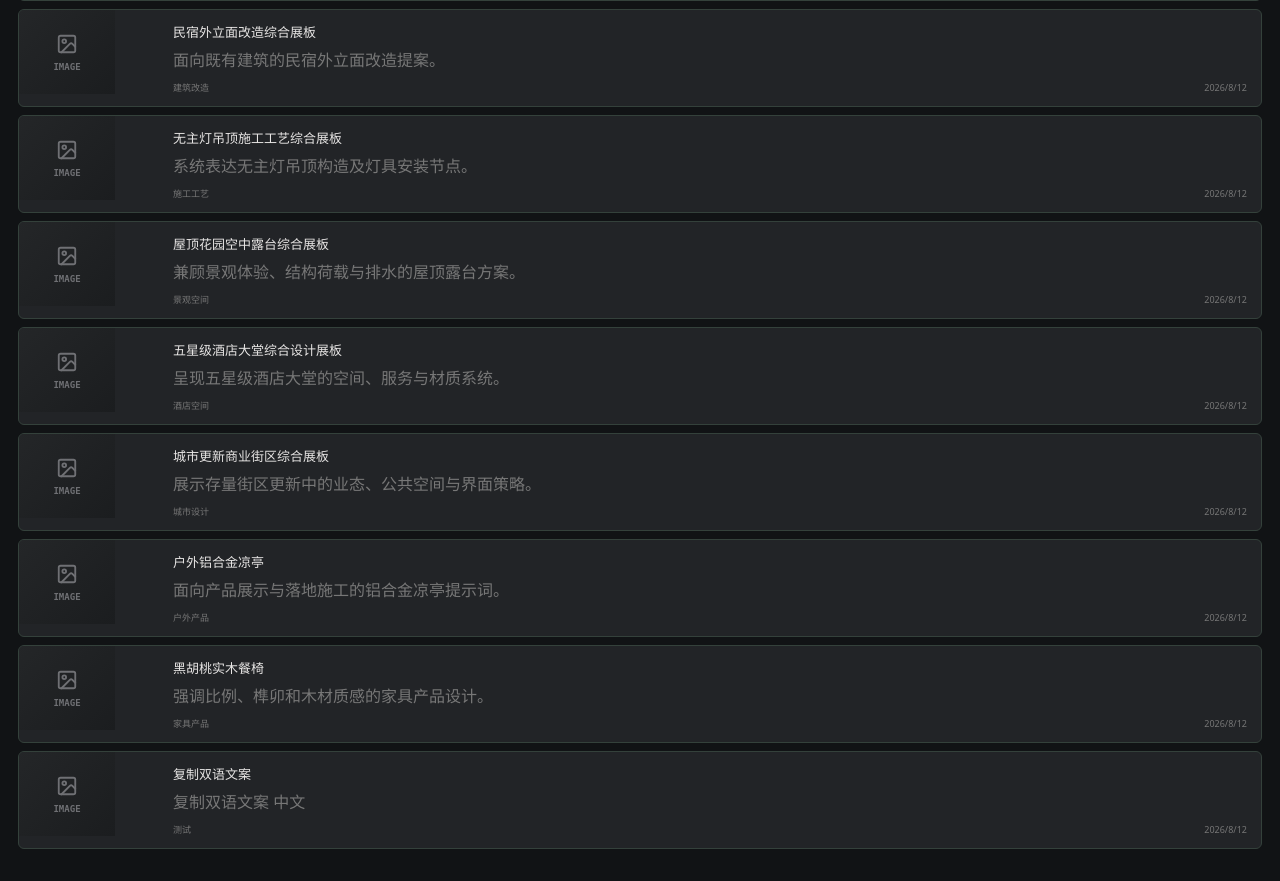
Test: LibraryPage › exposes named copy buttons for both languages
(page scrolled)
What coordinates should you click on to do the following:
click the button with aria-label "打开复制双语文案"
I would click on:
 (67, 794)
Its box is x1=18 y1=751 x2=1262 y2=849.
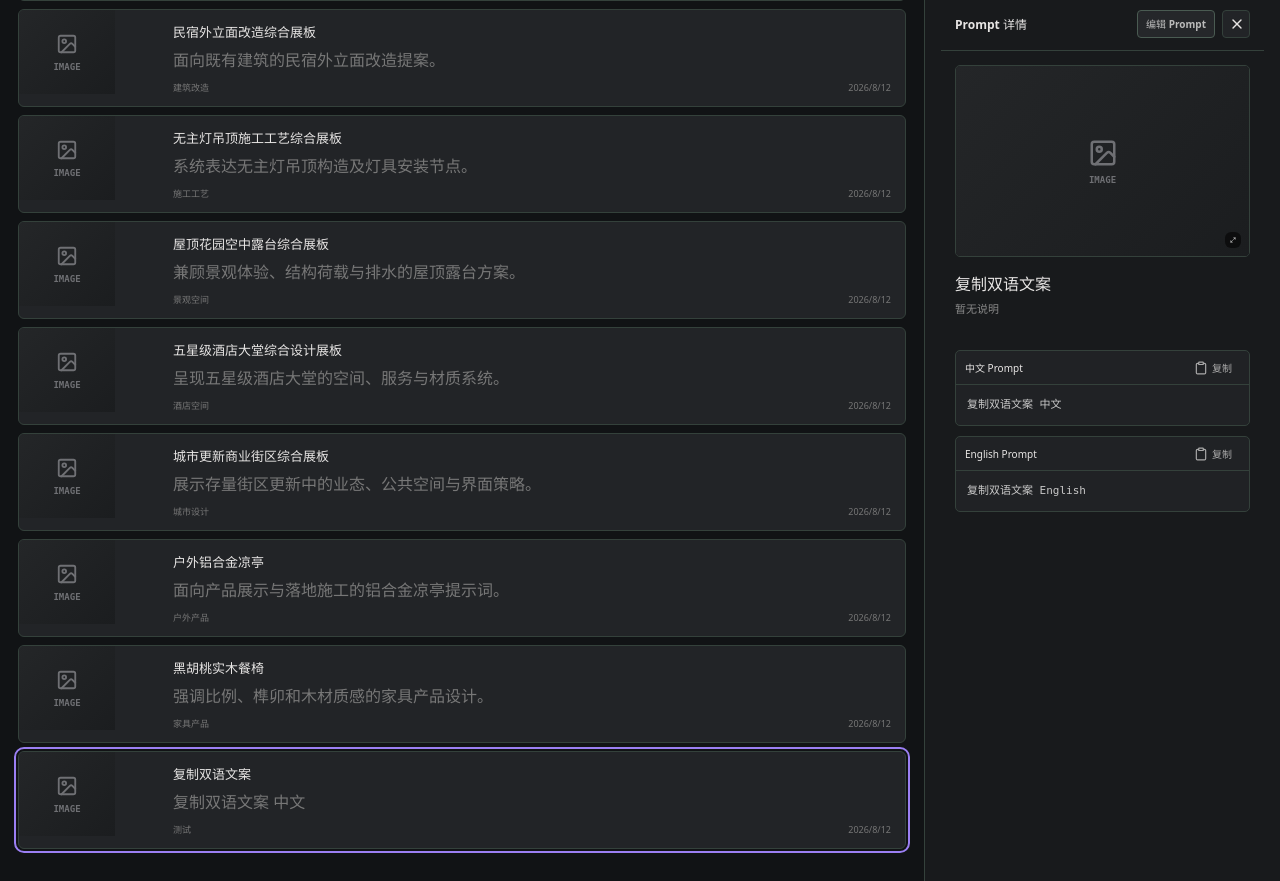
Expected: the button with aria-label "复制中文 Prompt" is shown, x1=1186 y1=354 x2=1240 y2=380
Expected: the button with aria-label "复制英文 Prompt" is shown, x1=1186 y1=441 x2=1240 y2=467
